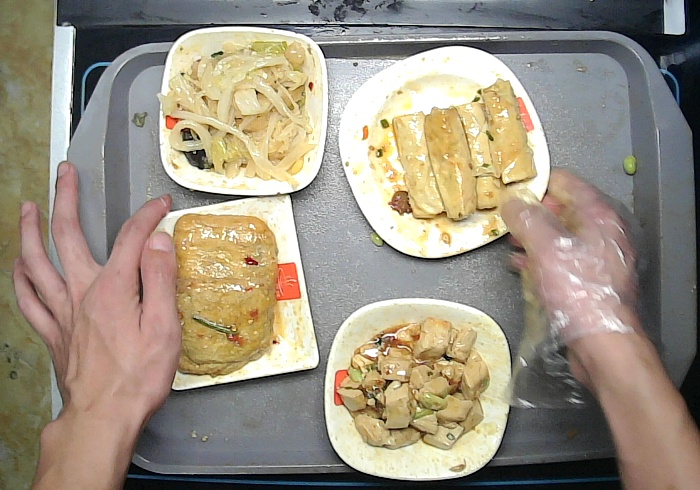SHKJ-Bai_Se_Cai_Die: (324, 298, 514, 480)
SHKJ-Bai_Se_Si_Fang_Cai_Die: (338, 45, 552, 256)
SHKJ-Bai_Se_Xiao_Fang_Die: (158, 26, 329, 196)
SHKJ-Si_Fang_Min: (136, 194, 320, 390)
